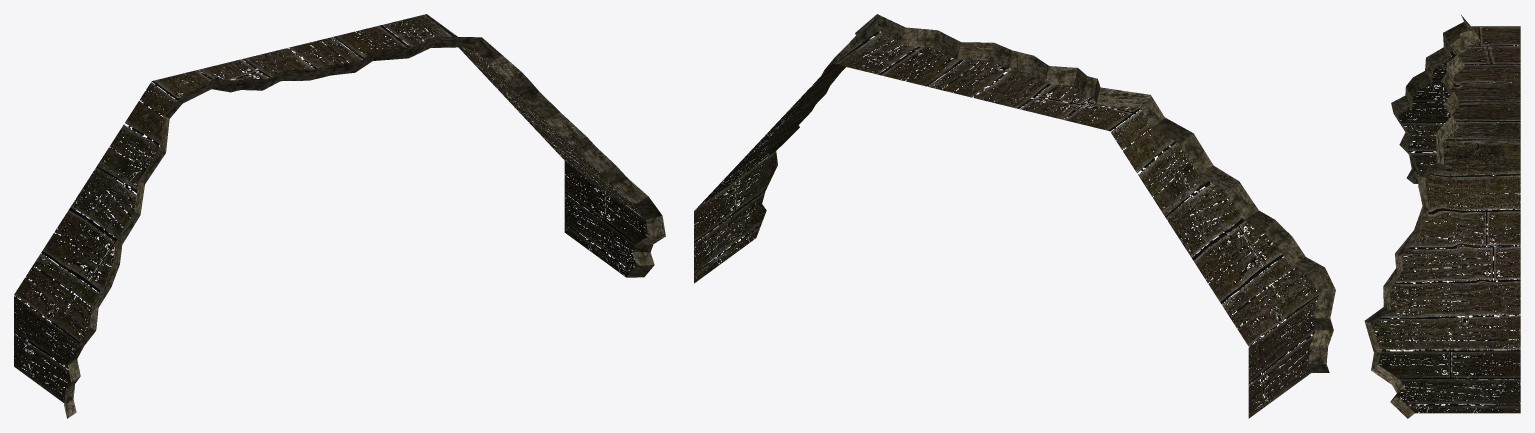
The model's file is arched_wooden_roof_broken.dae.
3 views of the same model, side by side, from view 1: azimuth 30°, elevation 25°; view 2: azimuth 150°, elevation 25°; view 3: azimuth 270°, elevation 25° (orthographic). The views are drawn at different scales.
Parts seen in each view (by area): view 1: polySurface130, polySurface131; view 2: polySurface130, polySurface131; view 3: polySurface130, polySurface131.
Part boxes in pixels (left/top/right/bottom): polySurface130: left=14, top=14, right=647, bottom=402; polySurface131: left=64, top=36, right=665, bottom=418; polySurface130: left=694, top=30, right=1318, bottom=418; polySurface131: left=749, top=14, right=1335, bottom=372; polySurface130: left=1372, top=26, right=1520, bottom=413; polySurface131: left=1364, top=15, right=1480, bottom=418.
Size of the model in its own units: 4.2 by 1.85 by 1.15.
